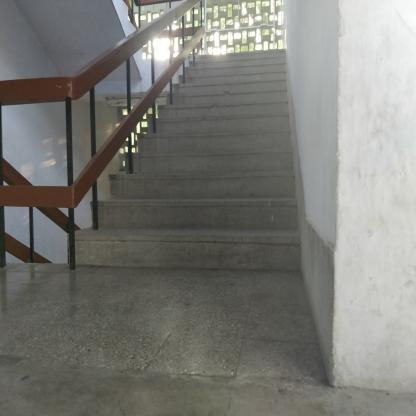stairs: (190, 68, 285, 283)
